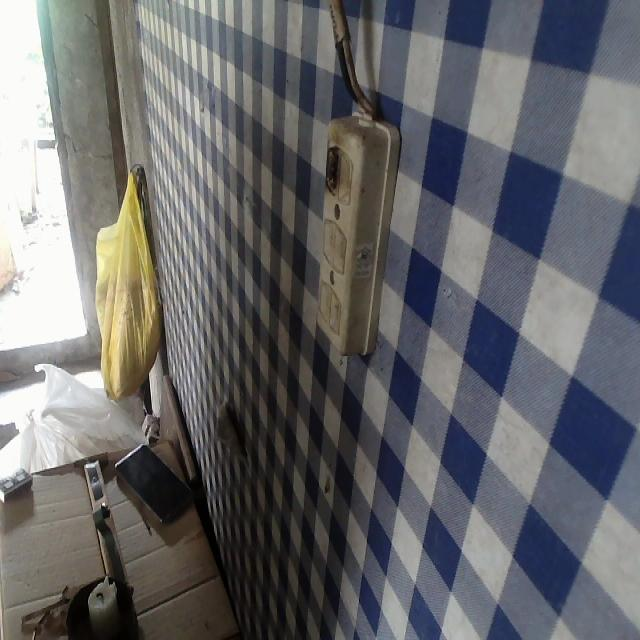-: (320, 145, 342, 196)
